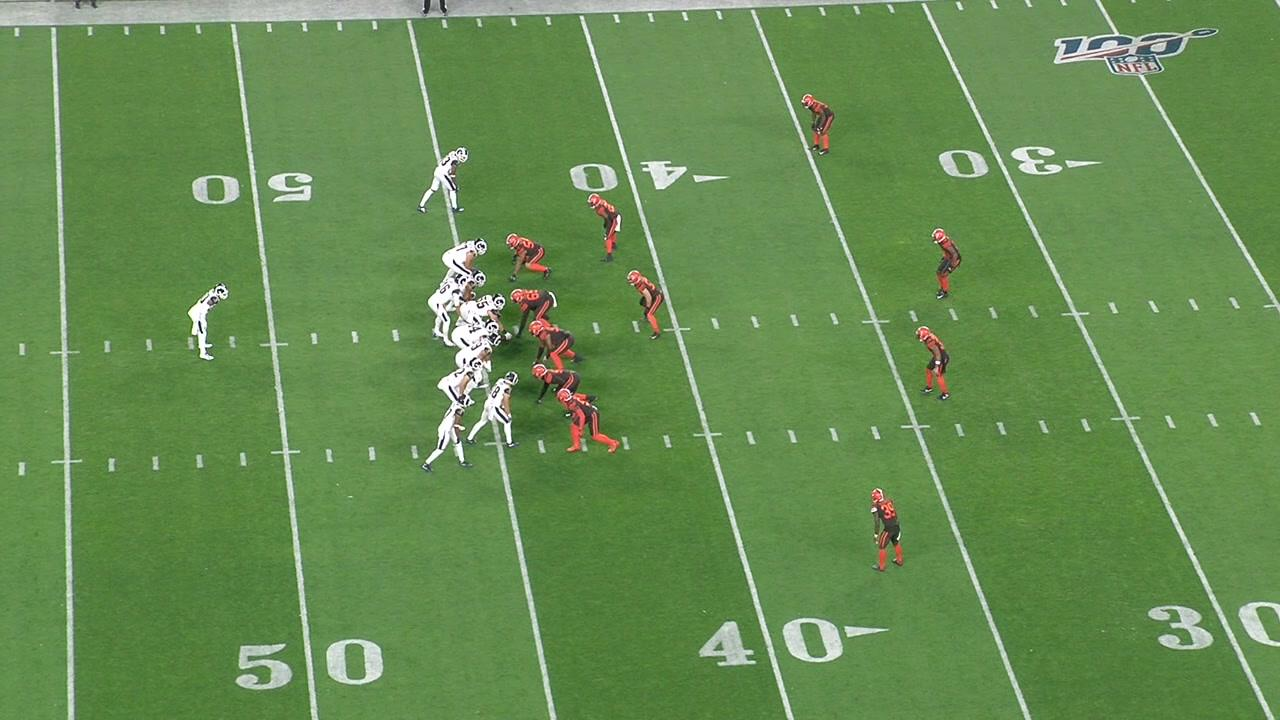defense: (556, 386, 622, 456), (531, 363, 601, 419), (868, 486, 908, 574), (915, 324, 954, 403), (626, 269, 666, 342), (527, 320, 582, 371), (586, 192, 623, 264), (509, 288, 559, 339), (504, 231, 553, 283), (800, 92, 836, 158), (931, 227, 963, 301)
oline: (454, 332, 503, 389), (450, 318, 500, 373), (458, 291, 513, 341), (440, 269, 488, 326), (438, 236, 489, 288)
qb: (426, 272, 467, 349)
skill: (419, 391, 475, 475), (466, 369, 520, 448), (416, 144, 470, 215), (435, 356, 484, 433), (186, 282, 231, 362)
